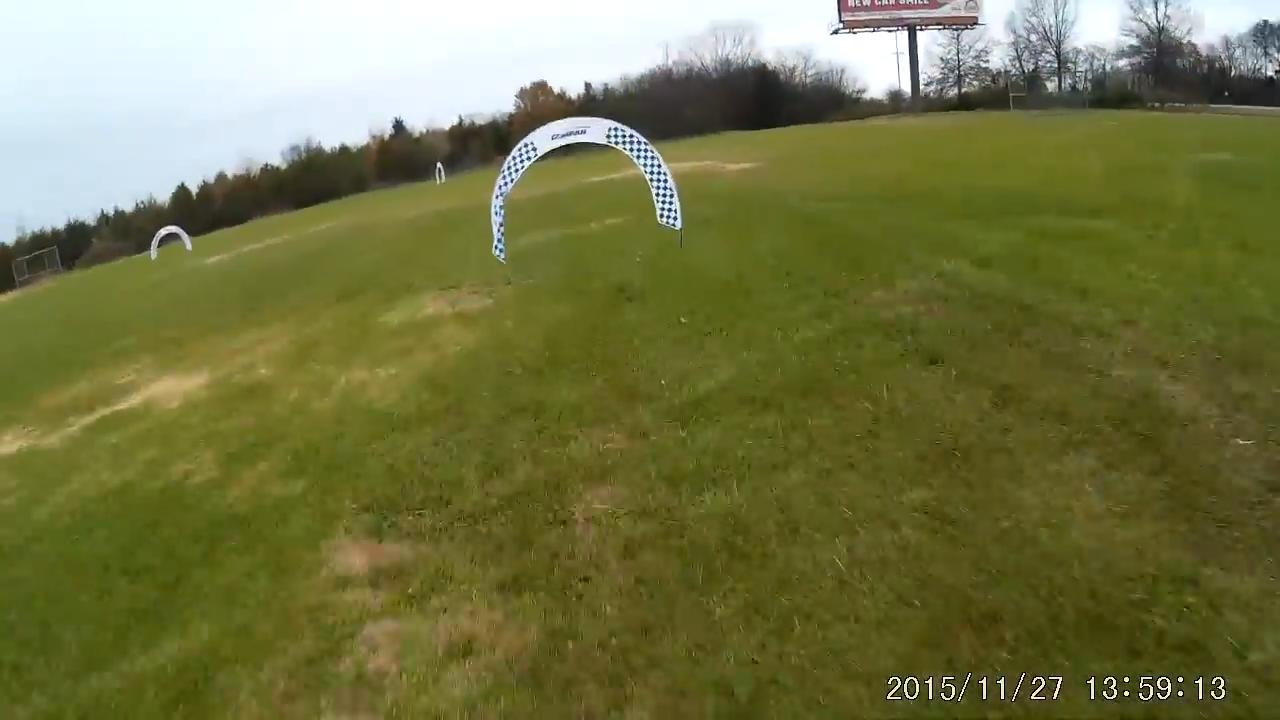gate: (484, 115, 691, 260)
